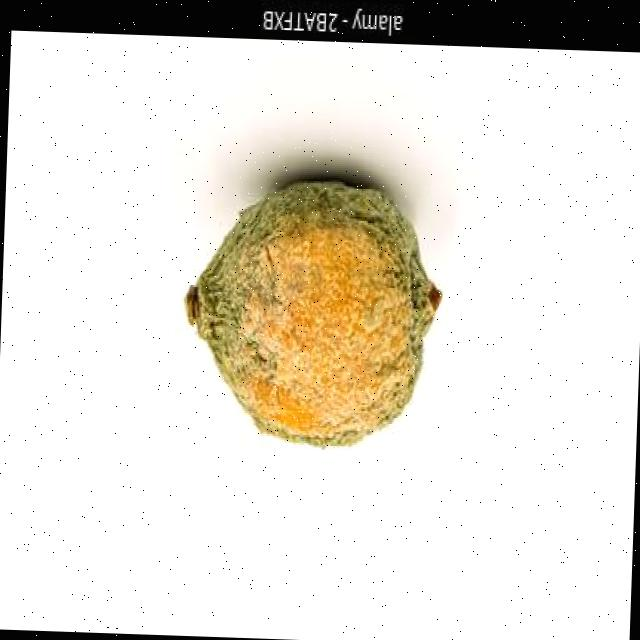Rotten: (180, 167, 447, 456)
